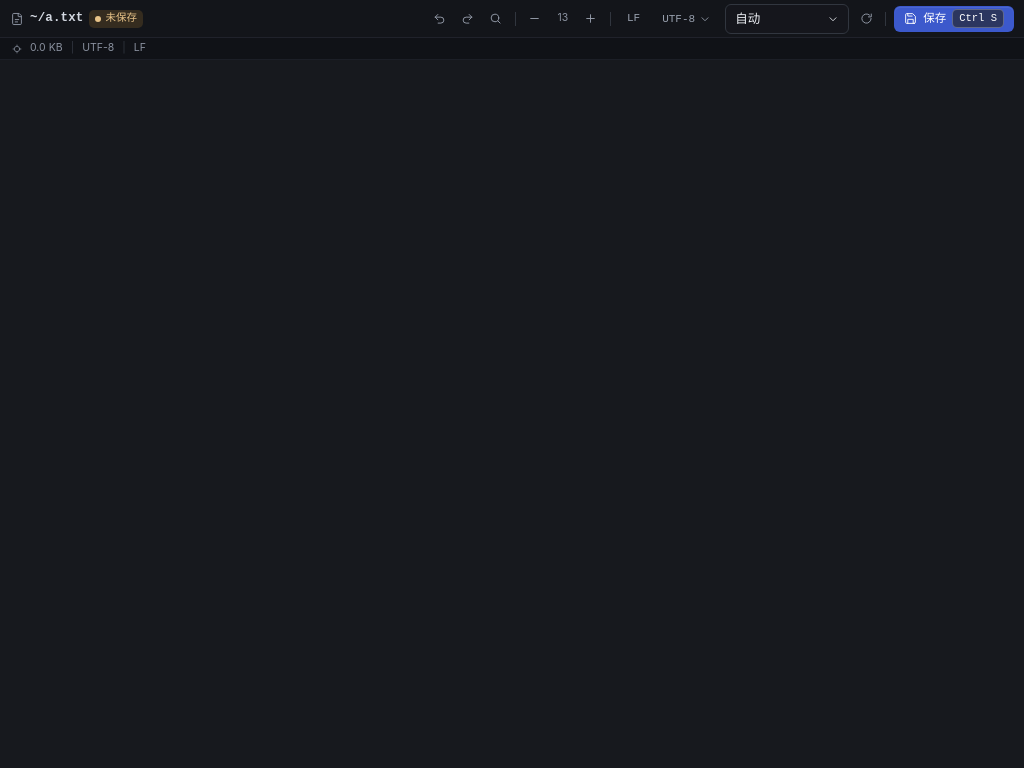
Test: delete and discard confirmations (R42 destructive dialogs) › FileEditor encoding switch: warns about dirty documents first and does not reread from disk on cancel
What coordinates should you click on to do the following:
click the button "UTF-8"
I would click on:
 (687, 19)
Its box is 654,8 -> 719,30.
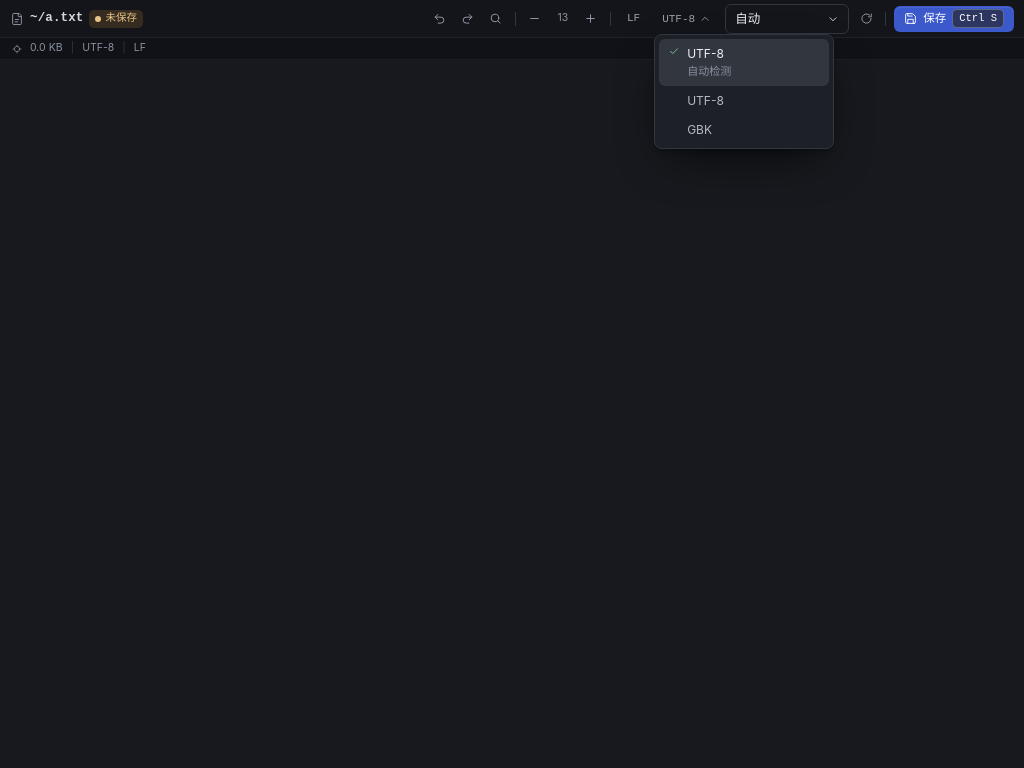
What coordinates should you click on to do the following:
click the option "GBK"
I would click on:
 (700, 130)
Its box is 687,122 -> 712,137.
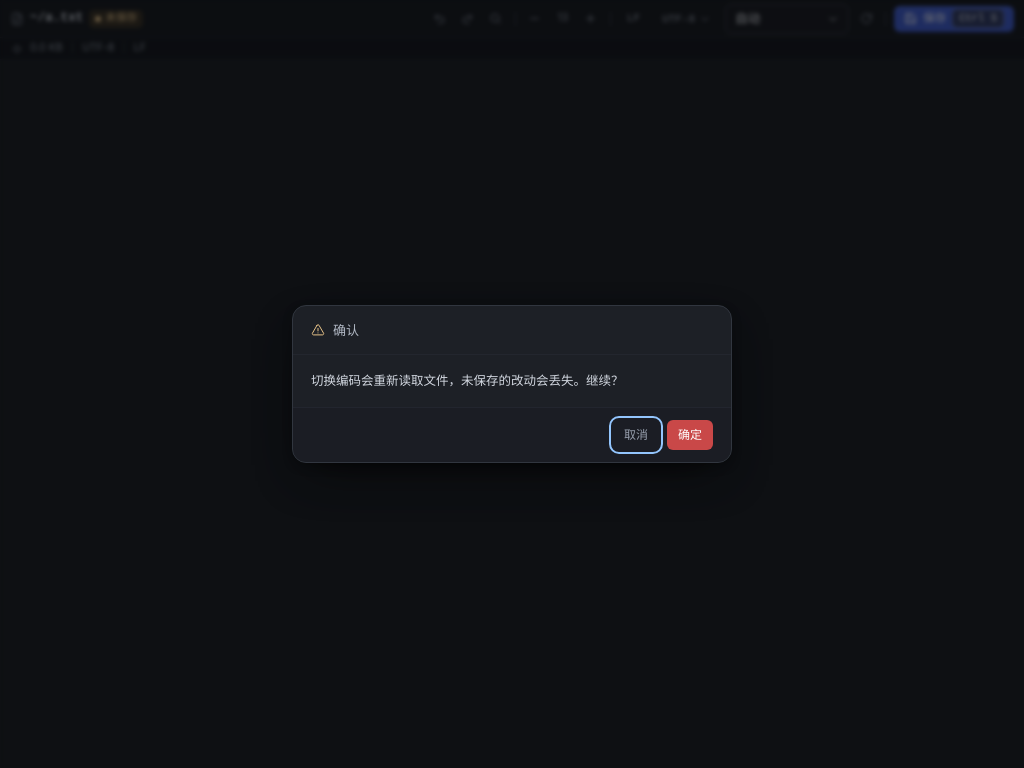
Now the dialog with class "nx-modal" is shown, box 292,305 -> 732,463
Now the dialog with class "nx-modal" shows "未保存的改动会丢失", box 311,373 -> 624,388
What coordinates should you click on to do the following:
click the button "取消"
I would click on:
 (636, 435)
Its box is 613,420 -> 659,450.
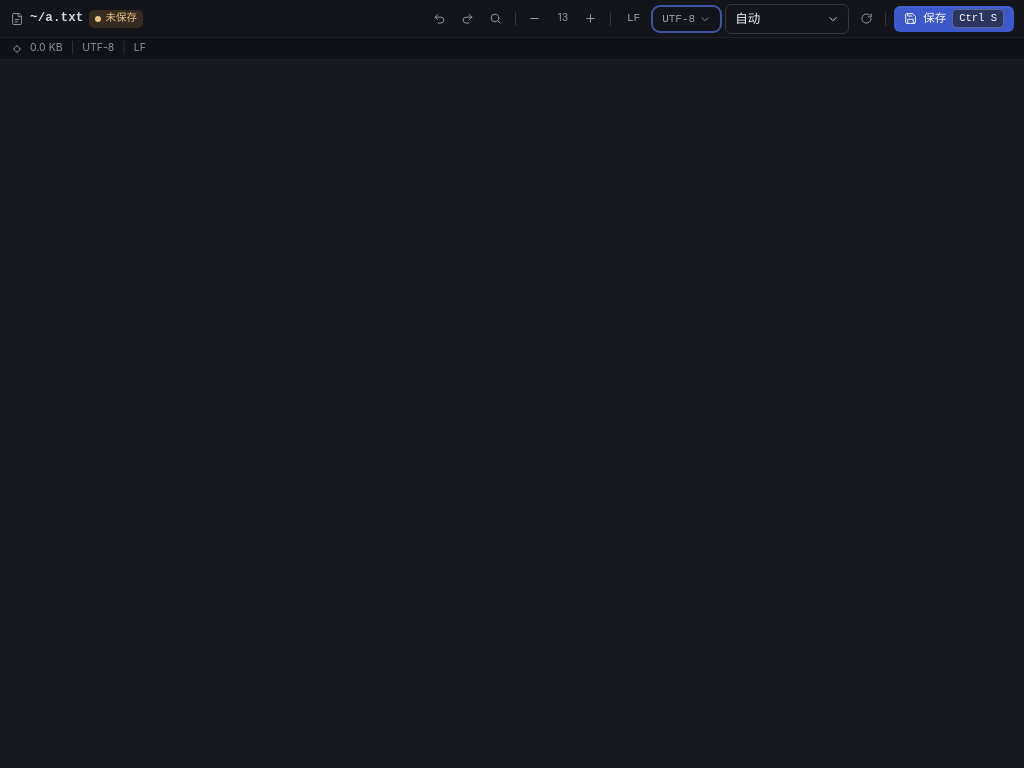
Now the dialog with class "nx-modal" is gone
What coordinates should you click on to do the following:
click the button with aria-label "解码方式"
I would click on:
 (687, 19)
Its box is 654,8 -> 719,30.
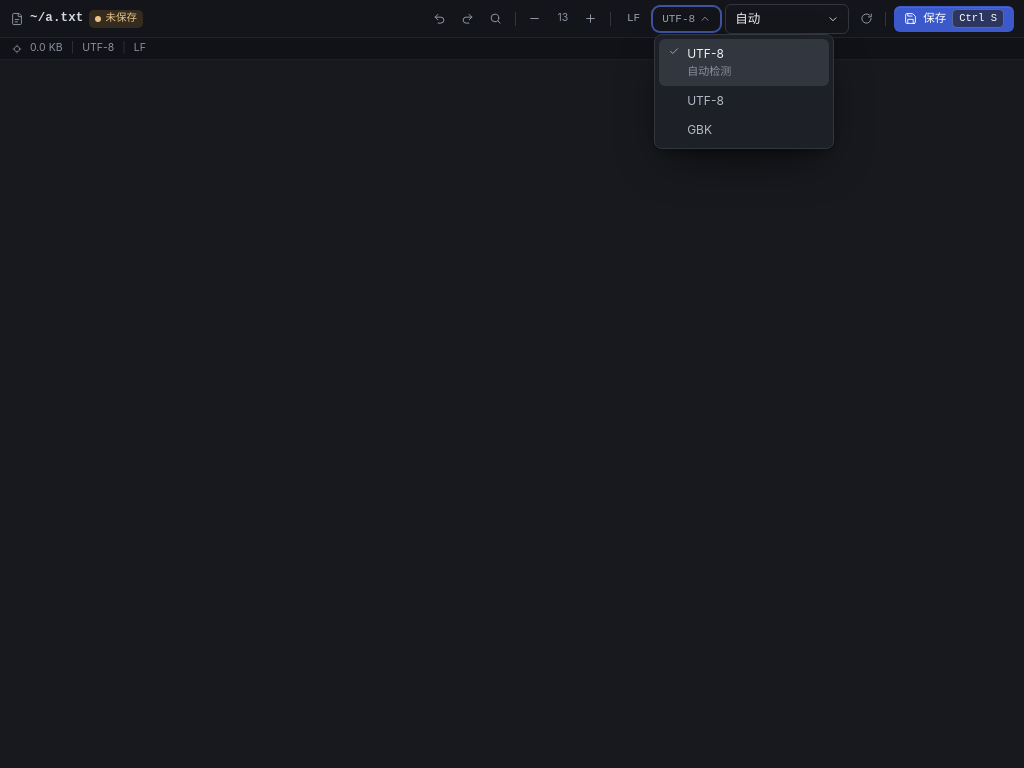
What coordinates should you click on to do the following:
click the option "UTF-8"
I would click on:
 (706, 100)
Its box is 687,93 -> 724,108.
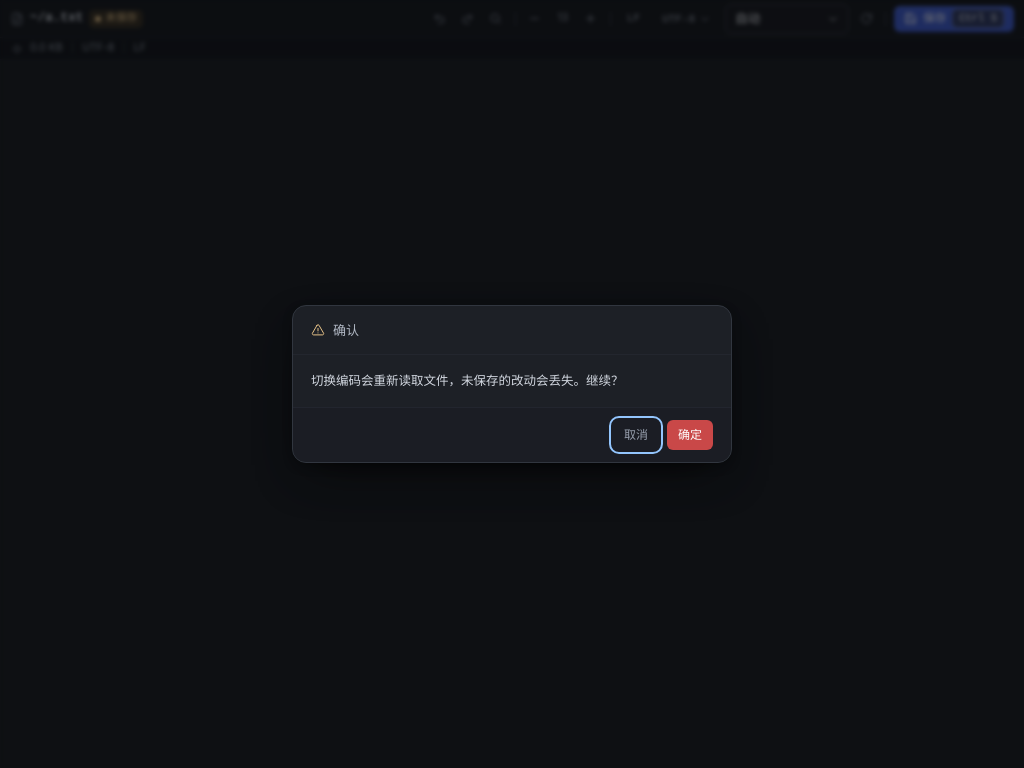
Now the dialog with class "nx-modal" is shown, box 292,305 -> 732,463
What coordinates should you click on to do the following:
click the button "确定"
I would click on:
 (690, 435)
Its box is 667,420 -> 713,450.
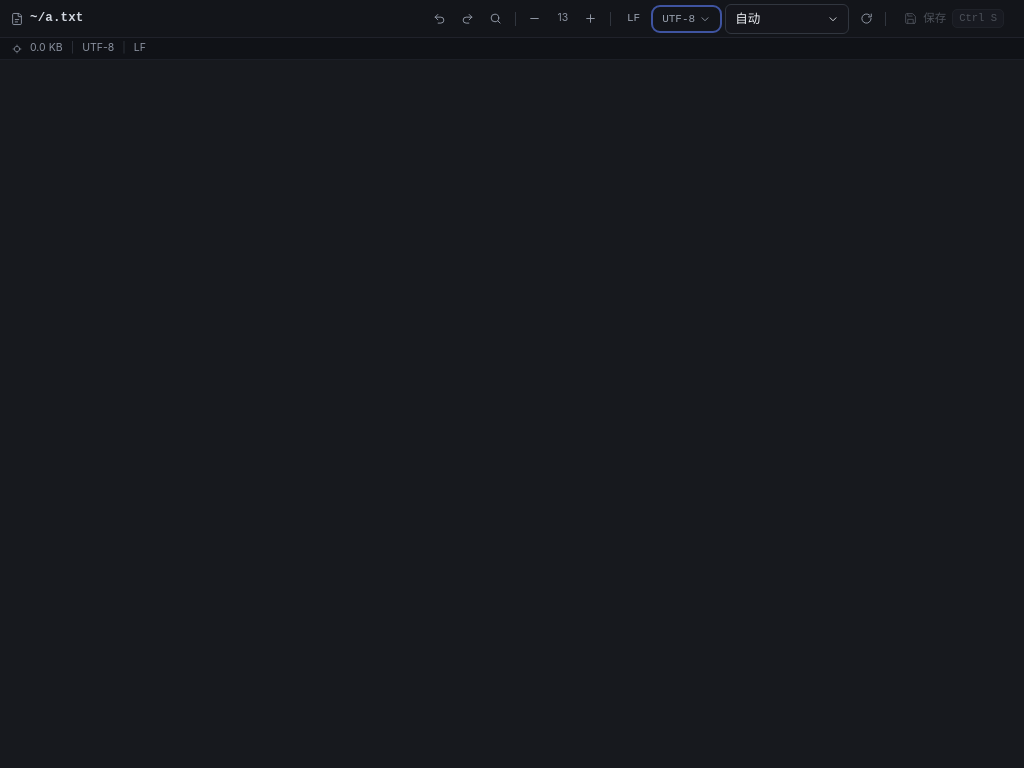
Now the dialog with class "nx-modal" is gone
